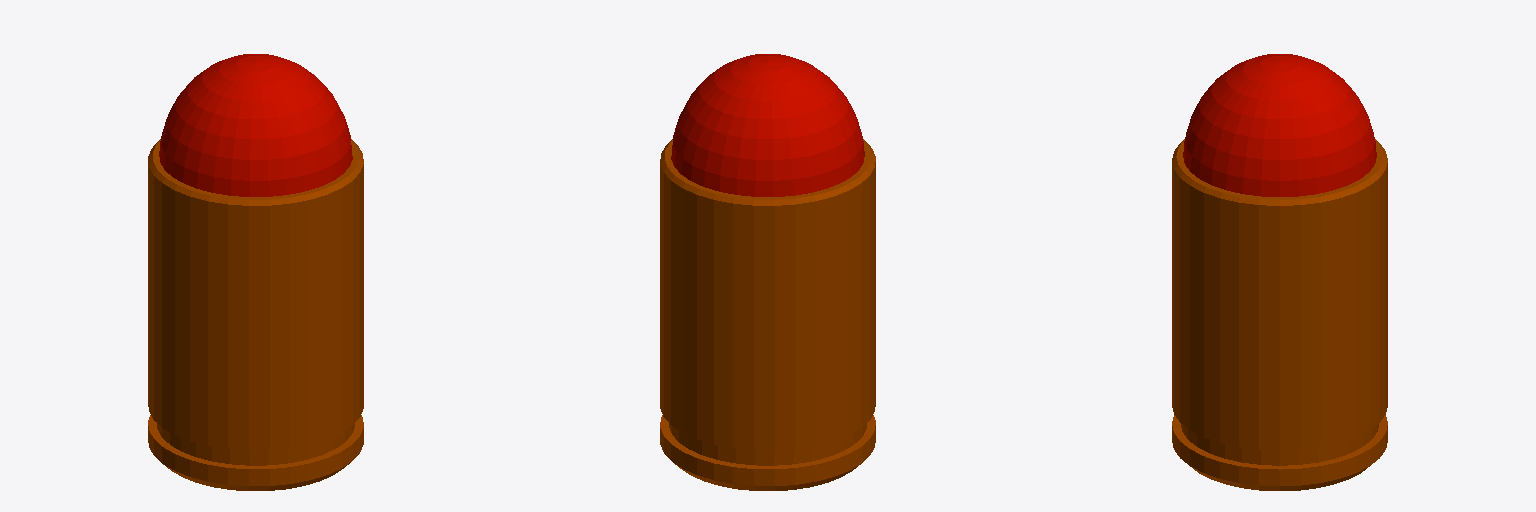
File: stt_bullet.obj
3 renders of one model, left to right at view 1: azimuth 30°, elevation 25°; view 2: azimuth 150°, elevation 25°; view 3: azimuth 270°, elevation 25°, orthographic.
Visible parts, largest first — view 1: Cylinder; view 2: Cylinder; view 3: Cylinder.
Part boxes in pixels (left/top/right/bottom): Cylinder: left=148, top=54, right=363, bottom=490; Cylinder: left=660, top=54, right=875, bottom=490; Cylinder: left=1172, top=54, right=1387, bottom=490.
Bounding box in the file's own units: 0.2 × 0.3965 × 0.2.